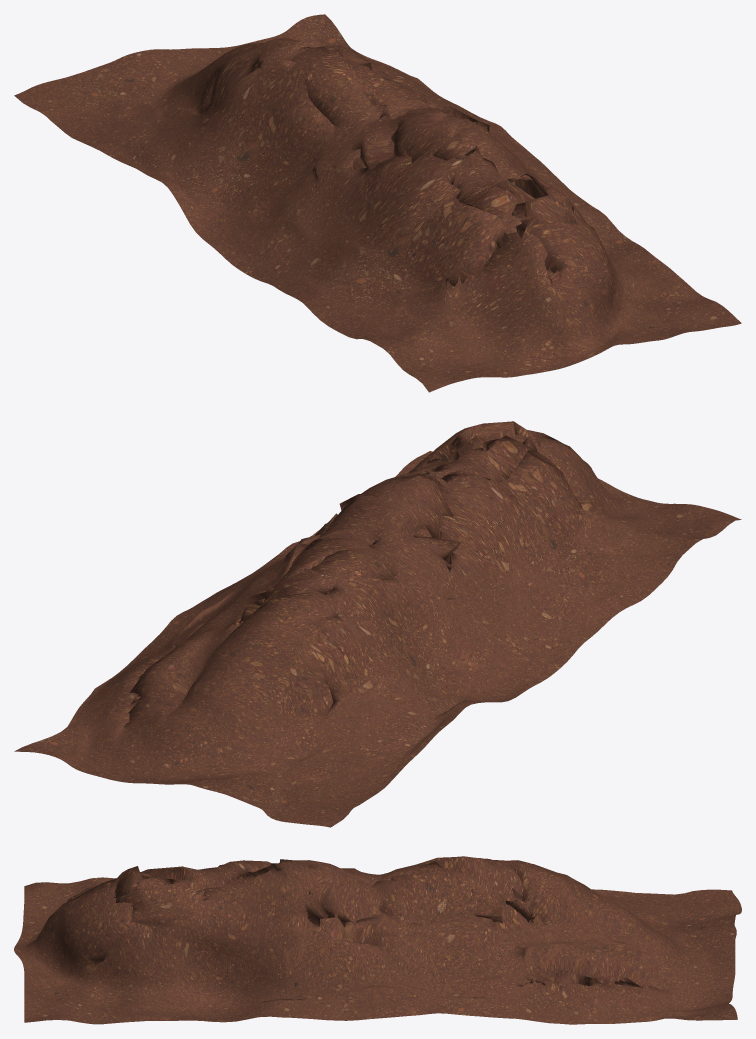
Rendered from TanahKub3.fbx.
The picture shows the model from 3 angles, top to bottom: view 1: azimuth 30°, elevation 25°; view 2: azimuth 150°, elevation 25°; view 3: azimuth 270°, elevation 25°; orthographic projection. The views are drawn at different scales.
Visible parts, largest first — view 1: Plane.006; view 2: Plane.006; view 3: Plane.006.
Boxes of the visible parts, <box> form: Plane.006: <box>14,14,741,392</box>; Plane.006: <box>14,421,741,827</box>; Plane.006: <box>14,856,741,1024</box>.
Size of the model in its own units: 580 by 240 by 1321.
